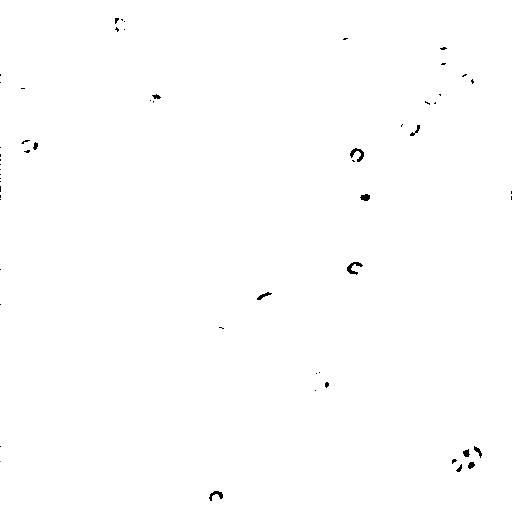micro-algae: (31, 1, 91, 38), (345, 179, 383, 217), (303, 371, 336, 401), (439, 448, 467, 479), (254, 289, 283, 318), (424, 44, 459, 67), (456, 444, 485, 471), (10, 69, 41, 92), (110, 9, 131, 37), (419, 84, 444, 107), (455, 68, 477, 93), (16, 133, 42, 154), (329, 21, 353, 43), (341, 255, 367, 275), (400, 113, 421, 136), (208, 484, 225, 507), (102, 27, 121, 47), (347, 144, 367, 163)
